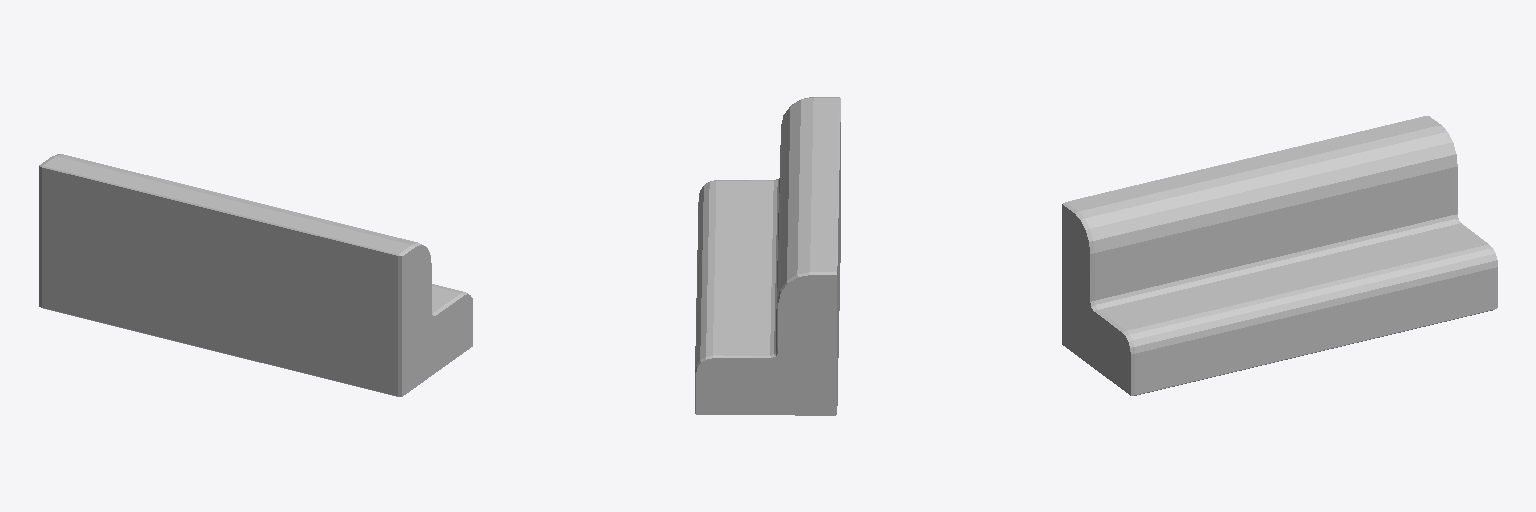
The model's file is seat_5.obj.
3 views of the same model, side by side, from view 1: azimuth 30°, elevation 25°; view 2: azimuth 150°, elevation 25°; view 3: azimuth 270°, elevation 25° (orthographic).
Parts seen in each view (by area): view 1: Cadeira1.004_Cube.004; view 2: Cadeira1.004_Cube.004; view 3: Cadeira1.004_Cube.004.
Boxes of the visible parts, box(x1,y1,x2,y2) form: Cadeira1.004_Cube.004: box(39, 154, 472, 396); Cadeira1.004_Cube.004: box(695, 97, 840, 415); Cadeira1.004_Cube.004: box(1062, 116, 1497, 395).
Size of the model in its own units: 2.52 by 1.2 by 3.34.